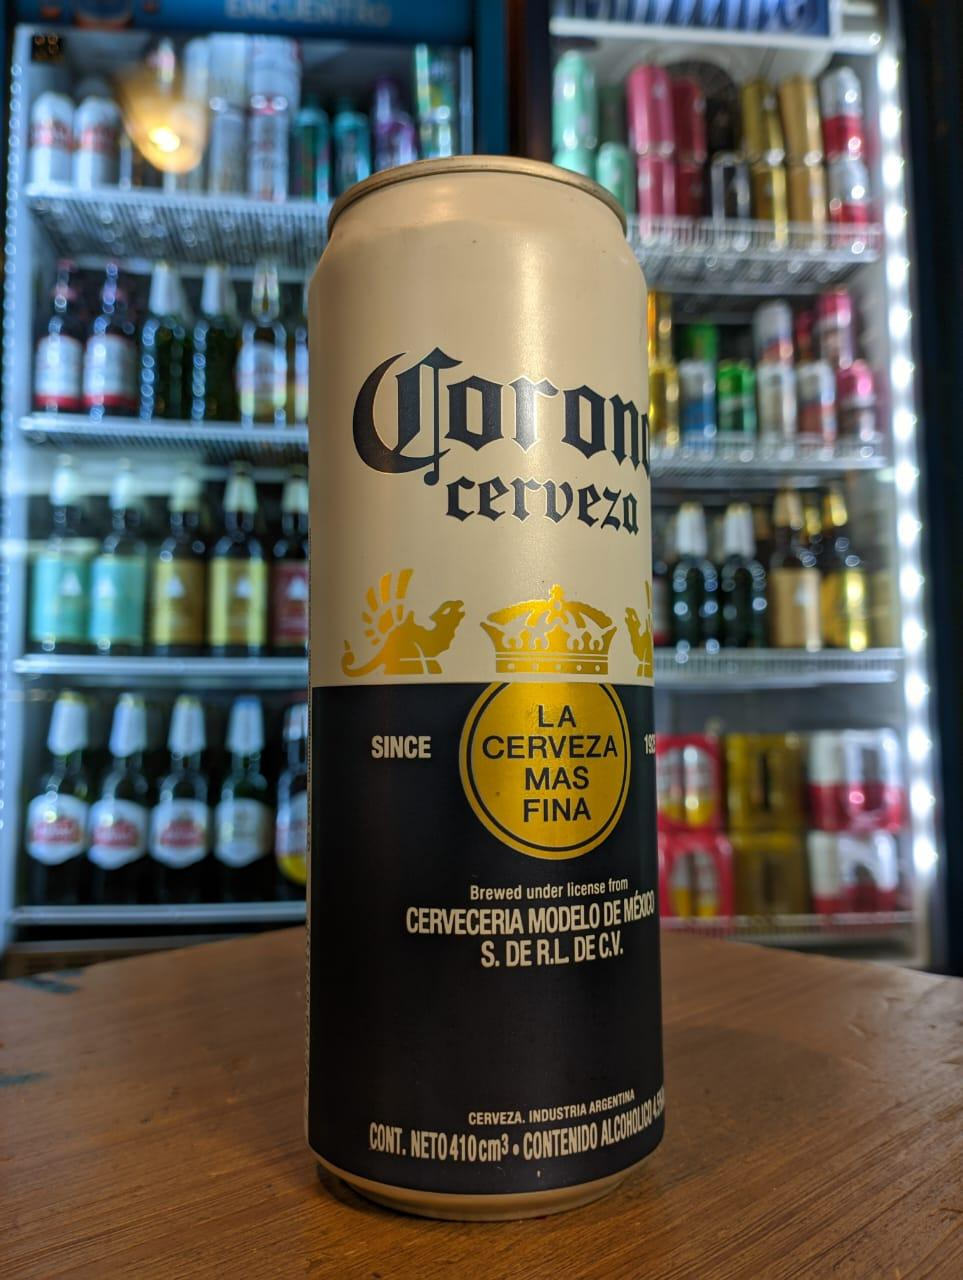lata: (309, 157, 663, 1218)
